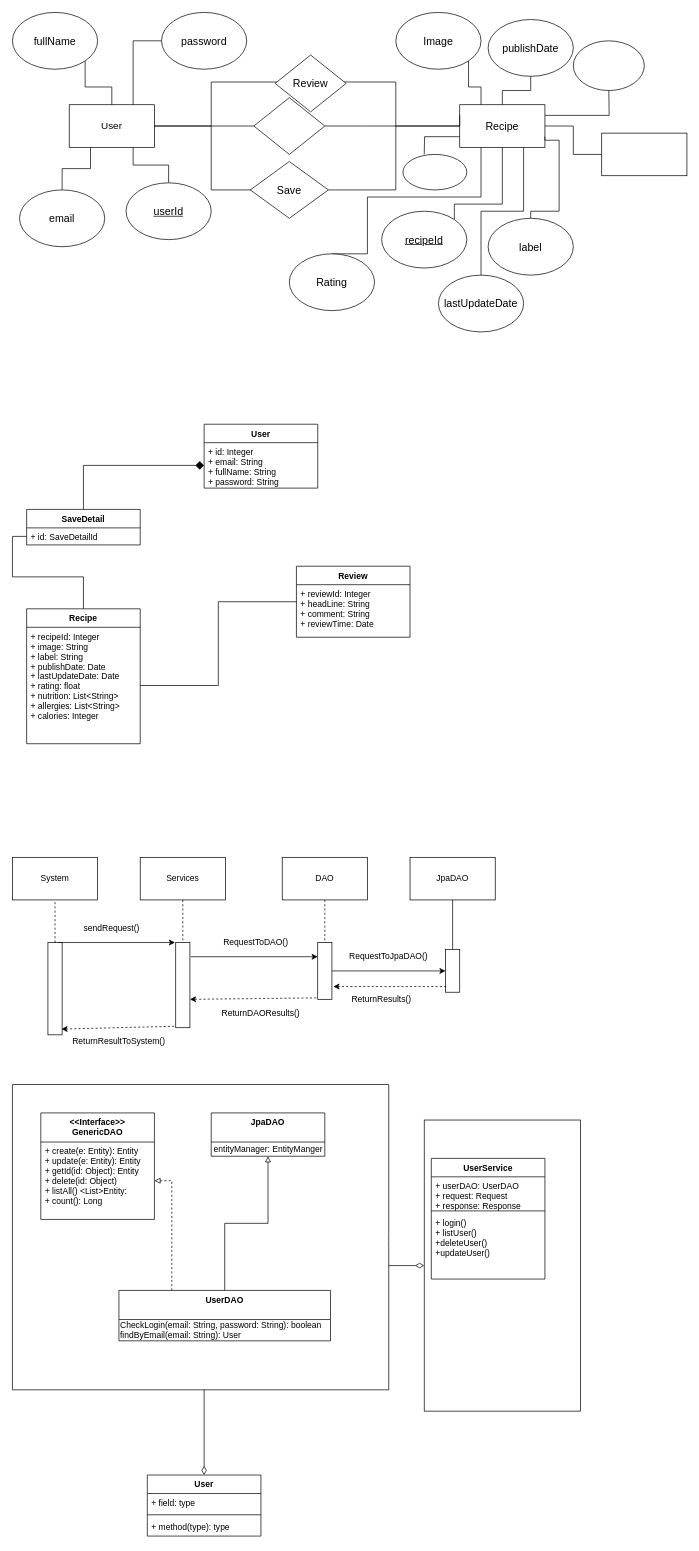
Some shapes in this 699 by 1551 pixel diagram are drawn without their labels. The shapes that lost their labels are listed below. From the top down, each one's centre as x and y in pixels, then its label:
the point at 608,65: Nutrition
the point at 289,125: Write
the point at 434,172: Calories
the point at 644,154: Allergies
